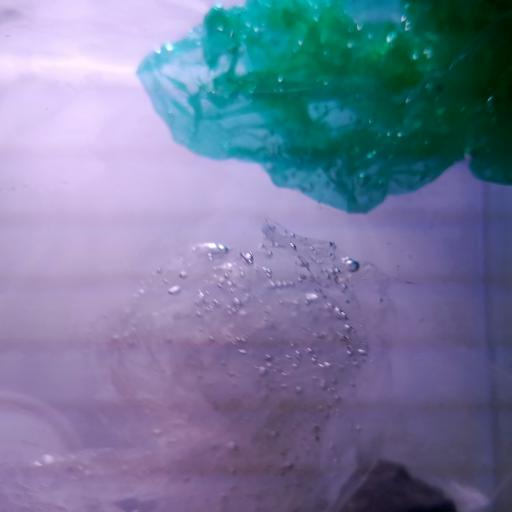plastic_bag: (15, 225, 397, 512), (135, 0, 512, 216)
plastic_cup: (0, 386, 87, 471)
